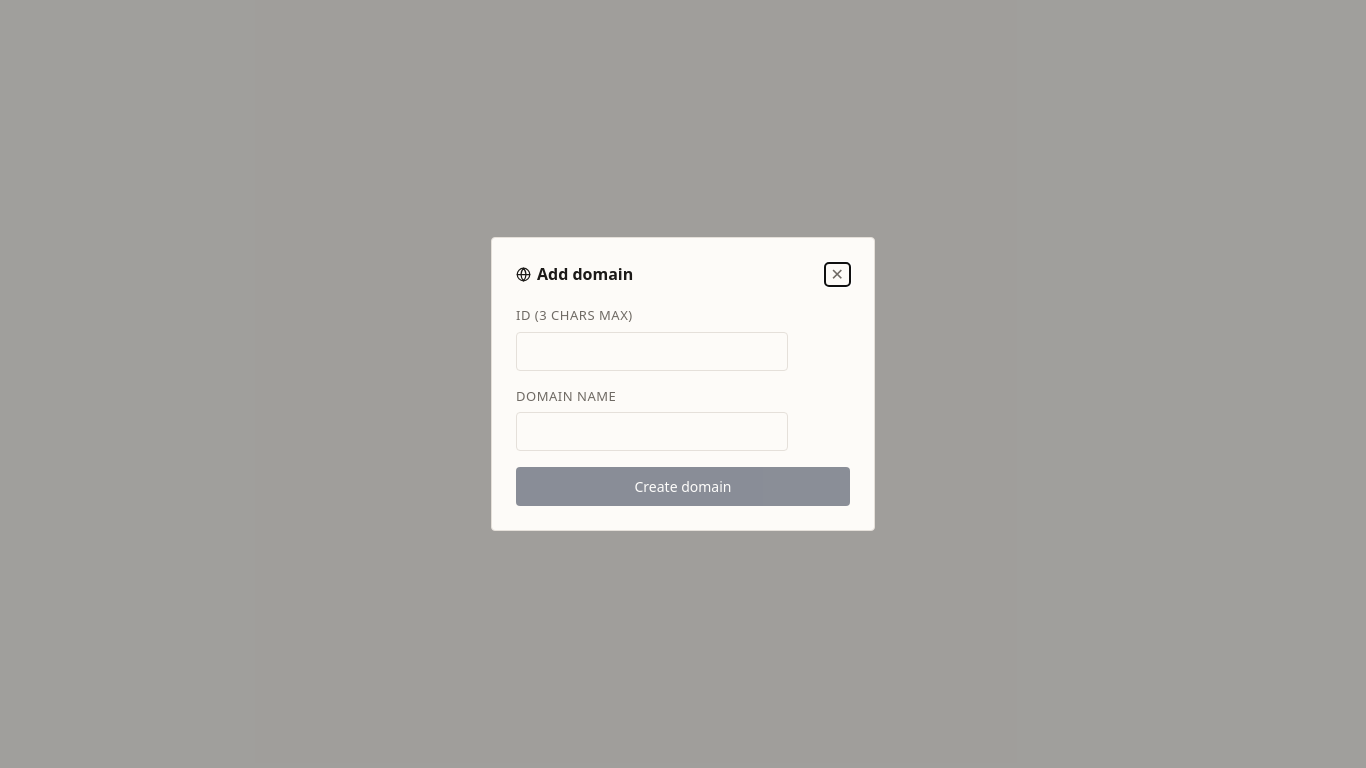
Scenario: AddEditDomainModal — create mode › submit button is enabled when both fields are filled with a valid domain
The width and height of the screenshot is (1366, 768).
Type "TST" into the field labelled "ID (3 chars max)" at x=652, y=351, box [516,332,788,370]
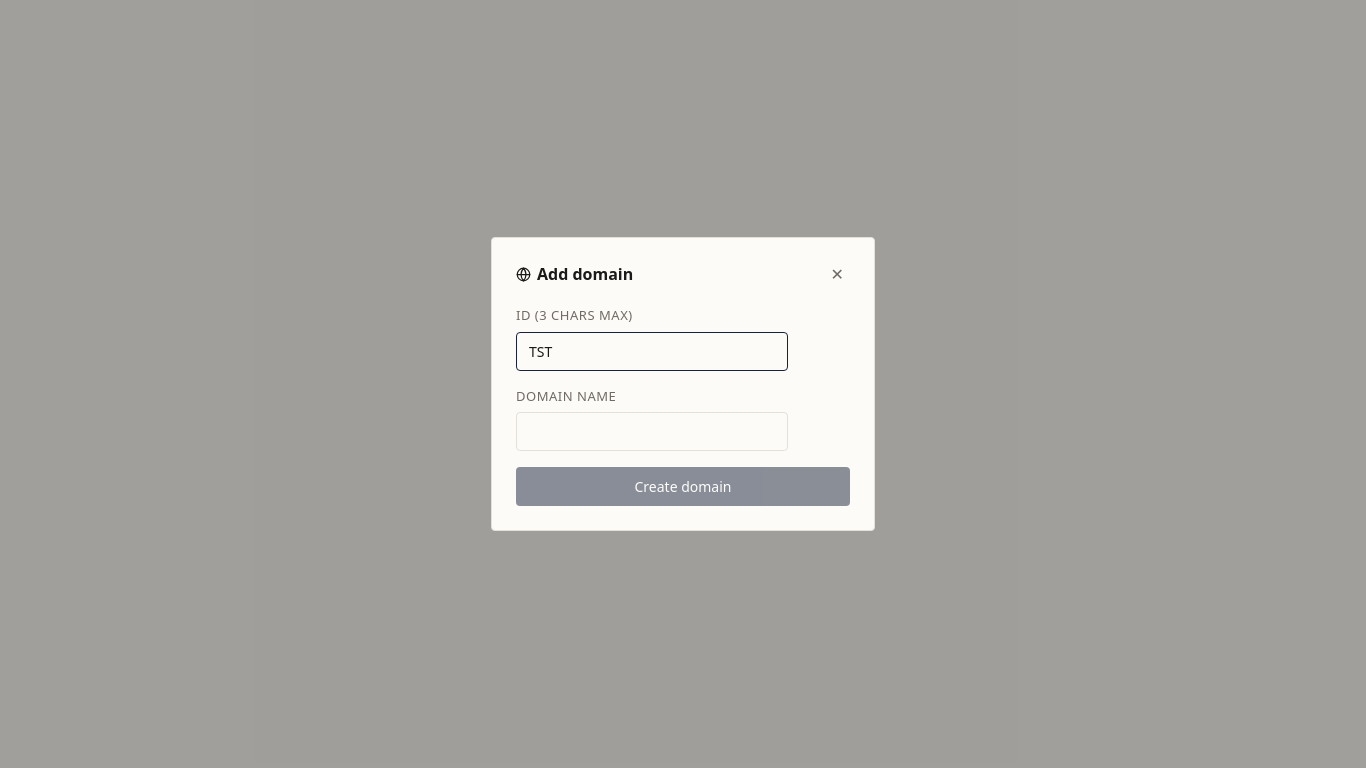
Type "test.com" into the field labelled "Domain name" at x=652, y=432, box [516,412,788,451]
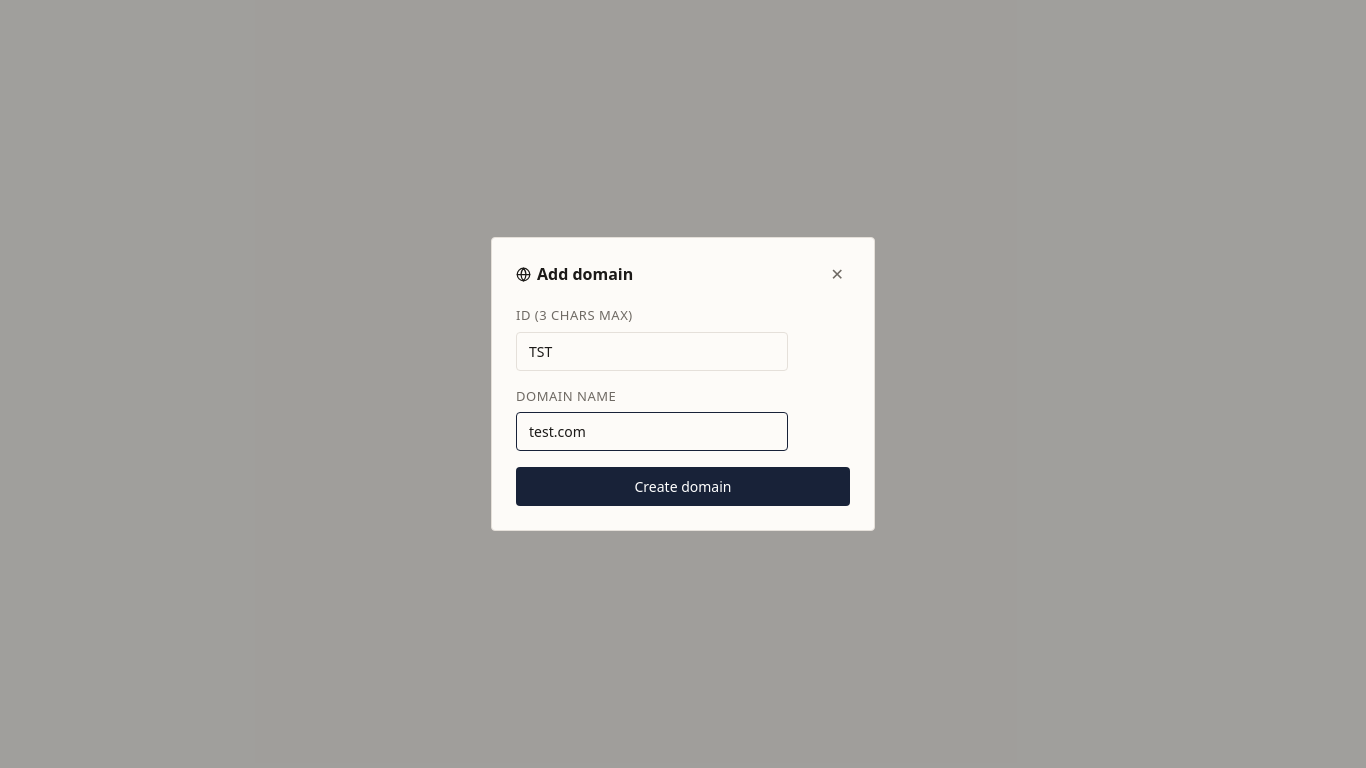
Now the button "Create domain" is enabled, box [516,467,850,506]
